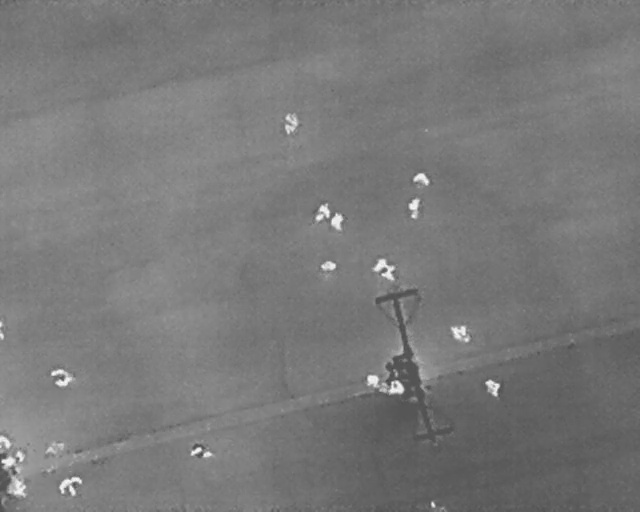Person: (480, 375, 506, 401), (372, 257, 397, 282), (0, 448, 27, 471), (48, 366, 76, 388), (57, 477, 85, 497), (313, 201, 333, 225), (448, 325, 472, 343), (282, 111, 299, 136), (6, 478, 27, 498), (188, 444, 213, 459), (407, 196, 421, 221), (387, 380, 405, 396), (412, 172, 431, 187), (331, 213, 345, 232), (366, 372, 379, 389), (320, 261, 338, 272), (0, 435, 10, 449)
